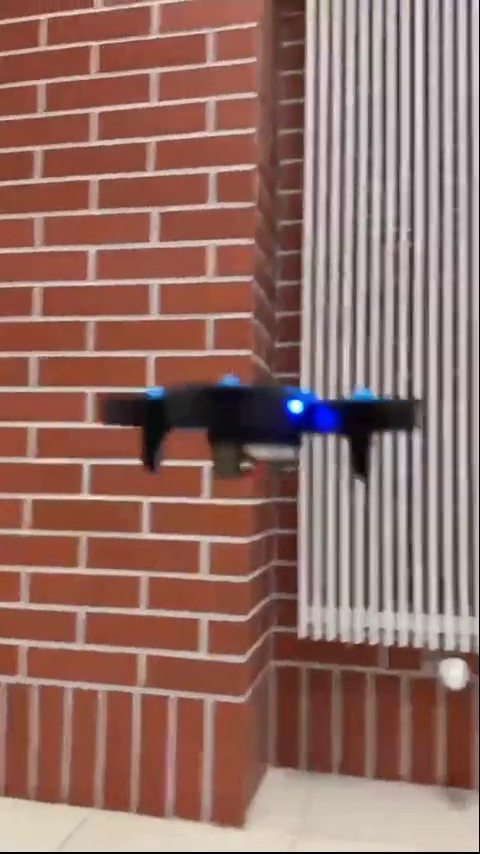drone: (104, 381, 420, 490)
